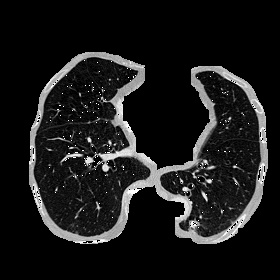PN: (190, 221, 198, 229)
